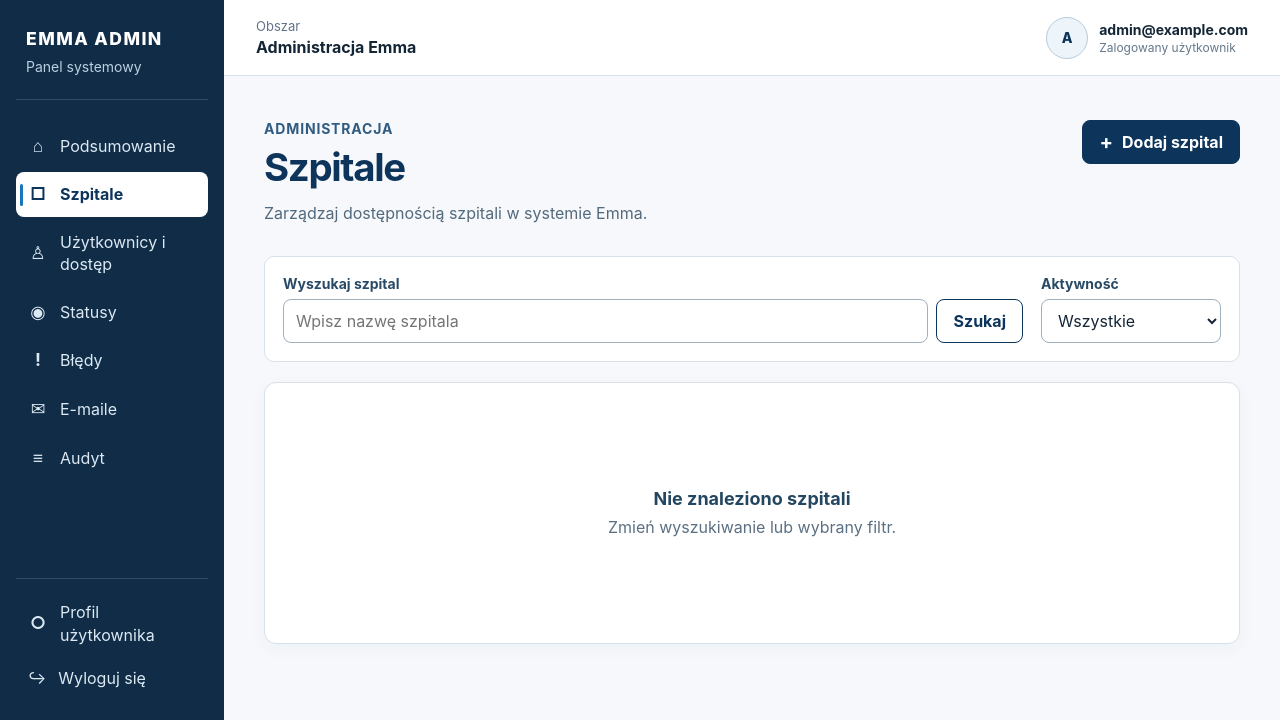
Test: Admin hospitals page › validates a hospital name before sending it
Expected: the text "Nie znaleziono szpitali" is shown, [654, 488, 850, 510]
Click the button "+ Dodaj szpital" at (1161, 142), box [1082, 120, 1240, 164]
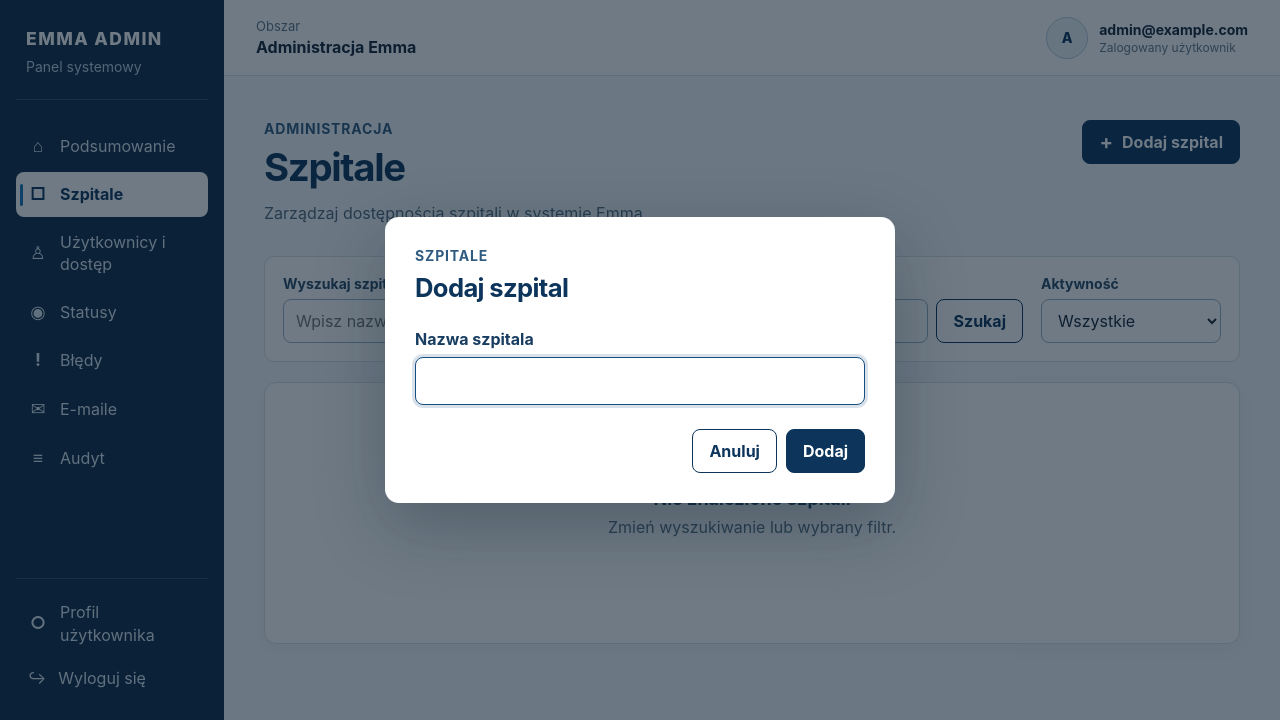
Type "ab" into the field labelled "Nazwa szpitala" at (640, 381), box [415, 357, 865, 405]
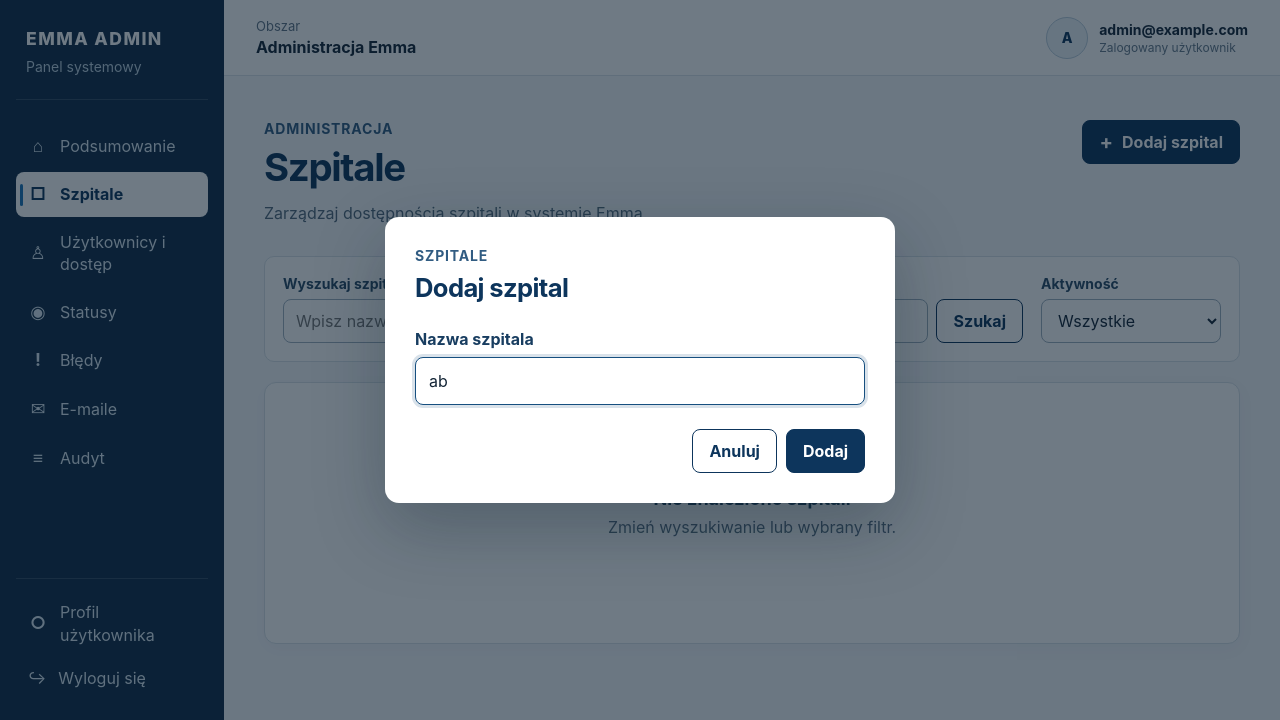
Click the button "Dodaj" at (825, 451), box [786, 429, 865, 473]
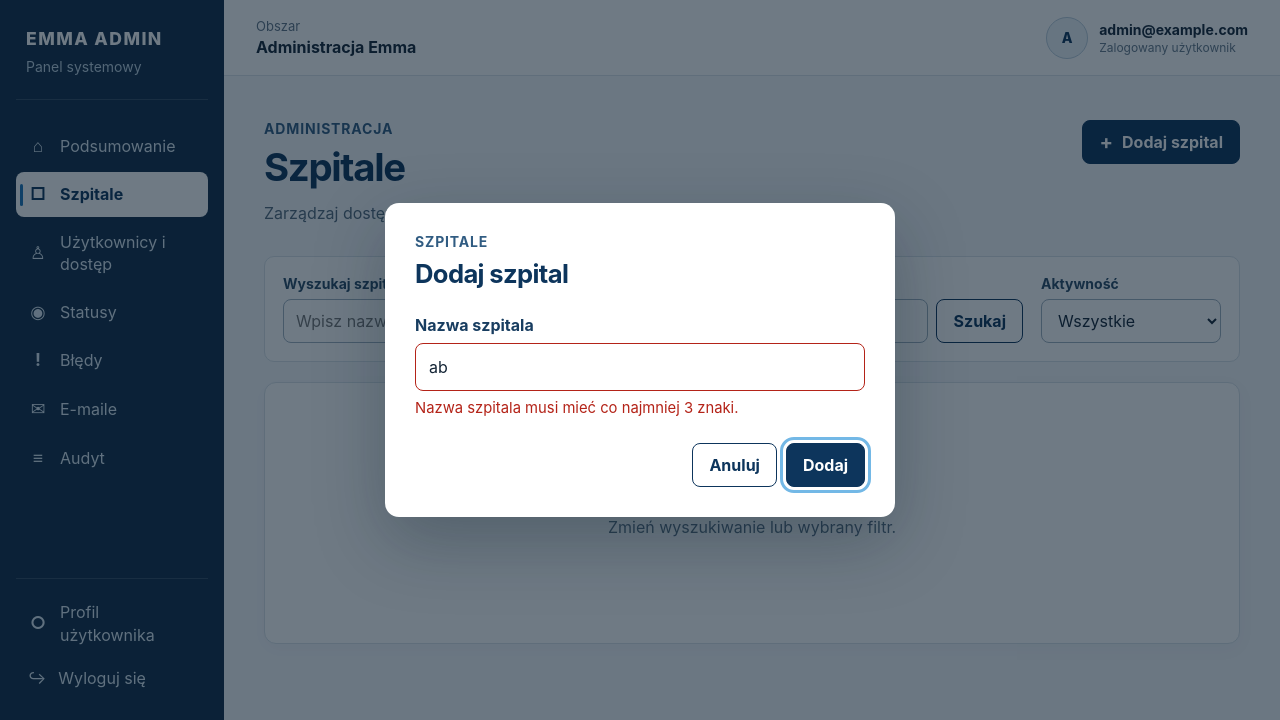
Expected: the text "Nazwa szpitala musi mieć co najmniej 3 znaki." is shown, [415, 399, 738, 417]
